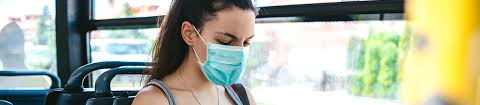with_mask: (188, 4, 263, 88)
